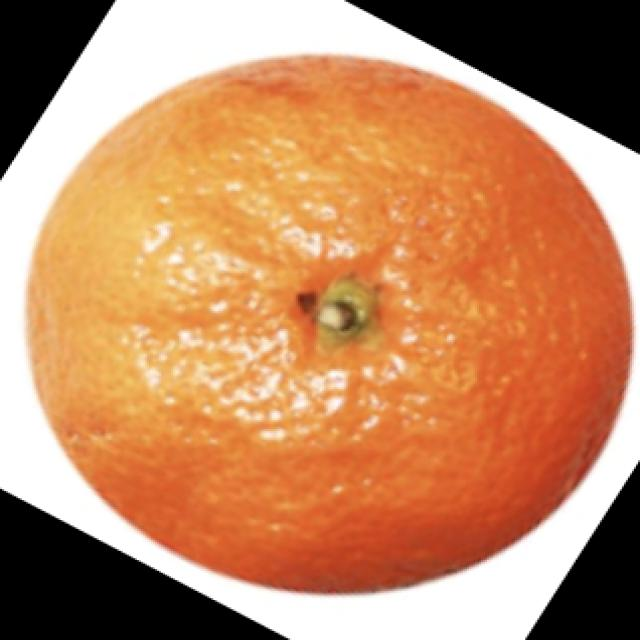matang: (28, 49, 621, 583)
